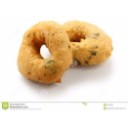vada: (14, 23, 73, 84), (62, 18, 113, 66)
